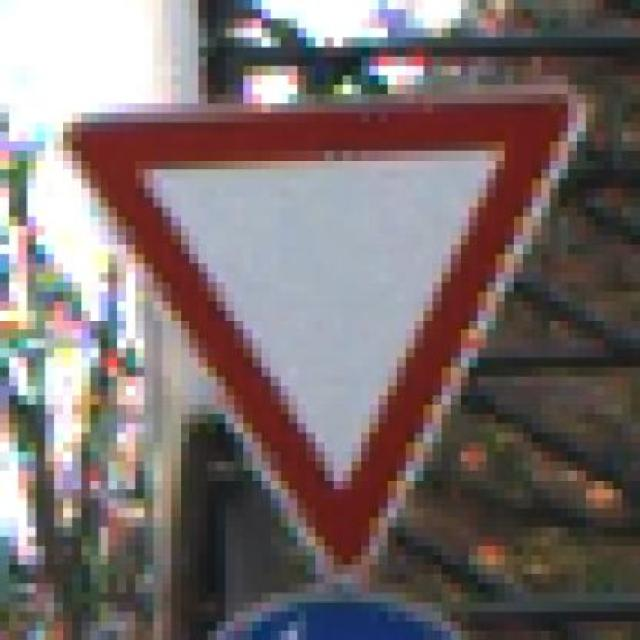Give Way: (27, 65, 622, 593)
